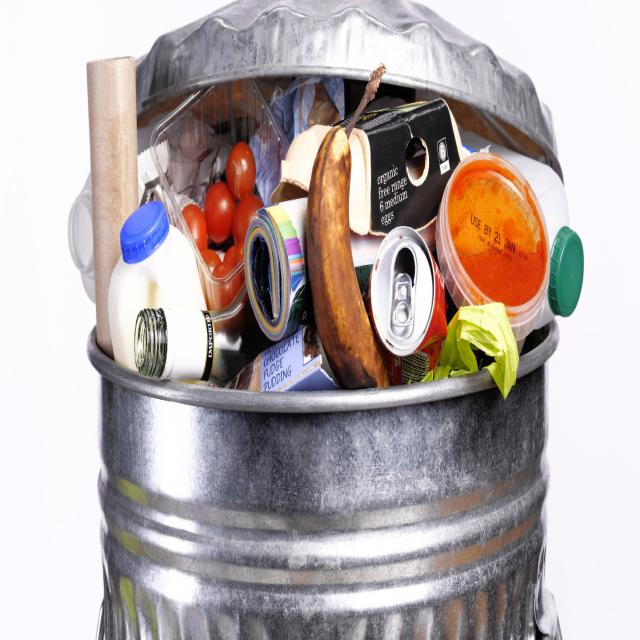Wet: (308, 96, 376, 378), (227, 139, 257, 193), (205, 180, 231, 240), (181, 198, 206, 248), (232, 188, 254, 236), (211, 246, 233, 288)
